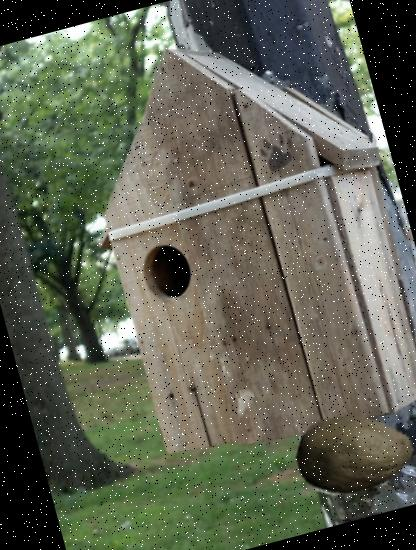Papaya: (285, 389, 416, 526)
